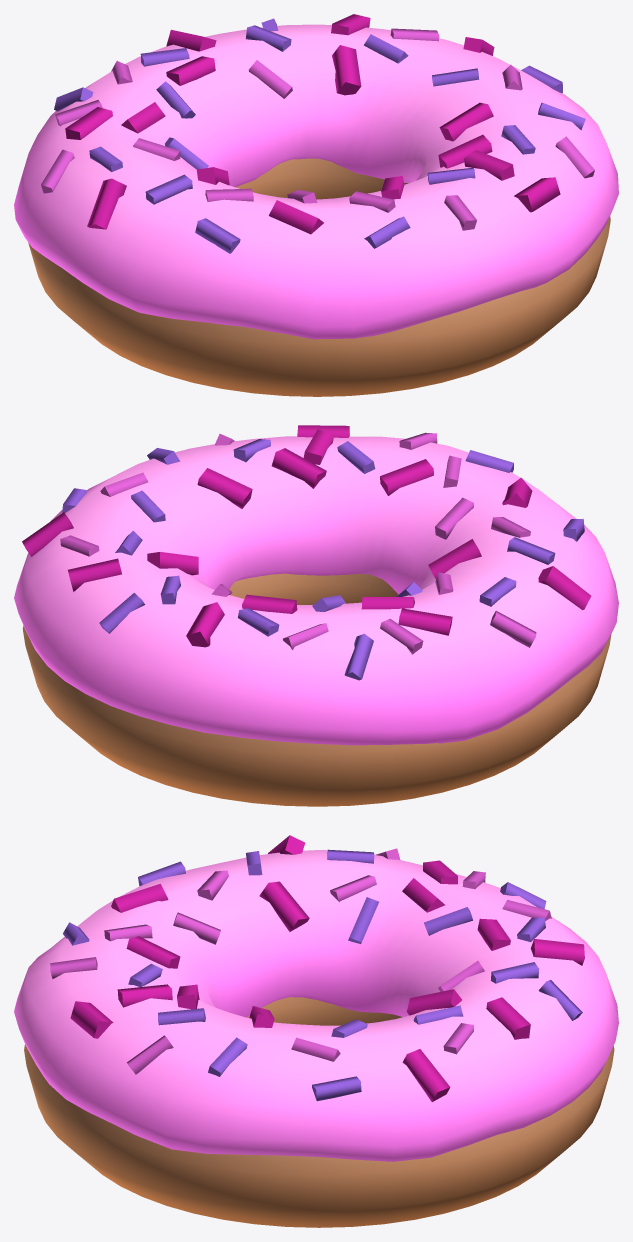
File: Donut_05.glb
The picture shows the model from 3 angles, top to bottom: view 1: azimuth 30°, elevation 25°; view 2: azimuth 150°, elevation 25°; view 3: azimuth 270°, elevation 25°; orthographic projection.
Visible parts, largest first — view 1: Donut_05; view 2: Donut_05; view 3: Donut_05.
Part boxes in pixels (x1,y1,x2,y2): Donut_05: (14,14,618,396); Donut_05: (14,425,618,806); Donut_05: (14,835,618,1227).
Size of the model in its own units: 10.27 by 3.6 by 10.33.
Materials: 2 (2 with a texture image).
